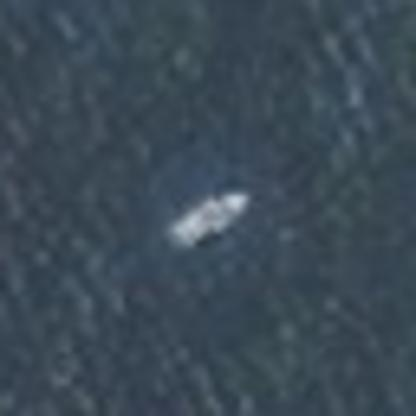ship: (158, 185, 256, 260)
